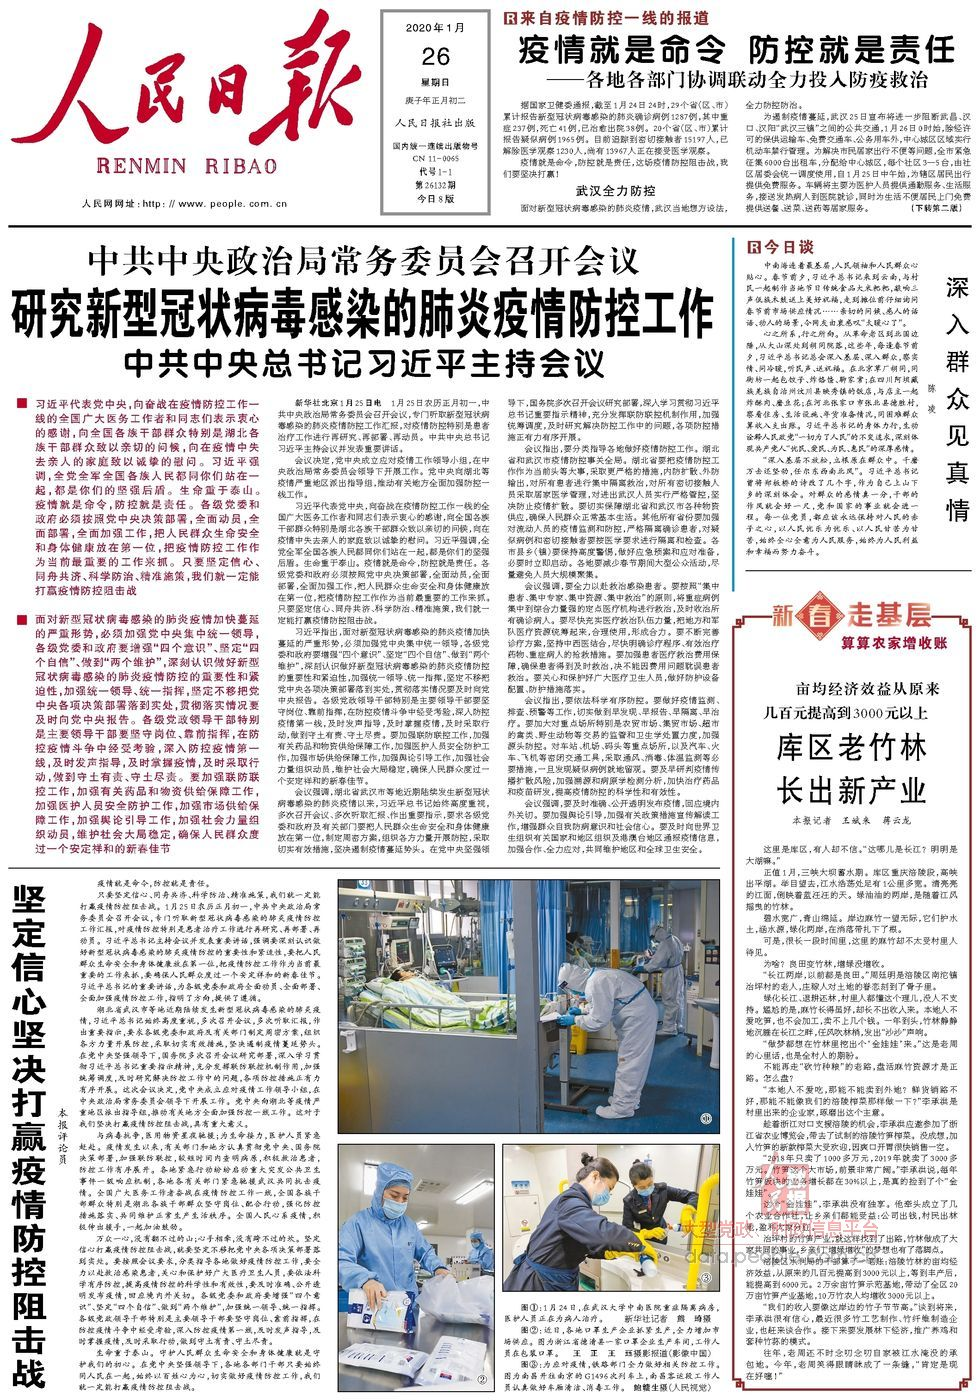pic: (333, 873, 725, 1139), (333, 1139, 497, 1395), (500, 1139, 725, 1297)
